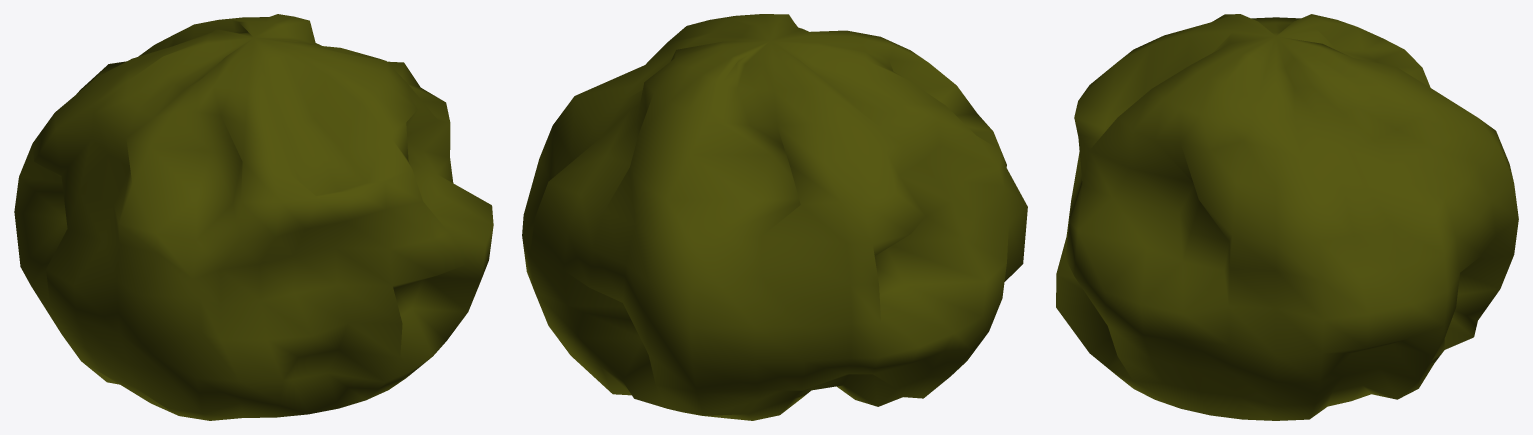
File: Bush.FBX
3 renders of one model, left to right at view 1: azimuth 30°, elevation 25°; view 2: azimuth 150°, elevation 25°; view 3: azimuth 270°, elevation 25°, orthographic. The views are drawn at different scales.
Parts seen in each view (by area): view 1: Bush; view 2: Bush; view 3: Bush.
Boxes of the visible parts, <box> form: Bush: <box>14,14,493,420</box>; Bush: <box>522,14,1027,420</box>; Bush: <box>1056,14,1518,420</box>.
Bounding box in the file's own units: 1.98 × 1.45 × 1.91.
